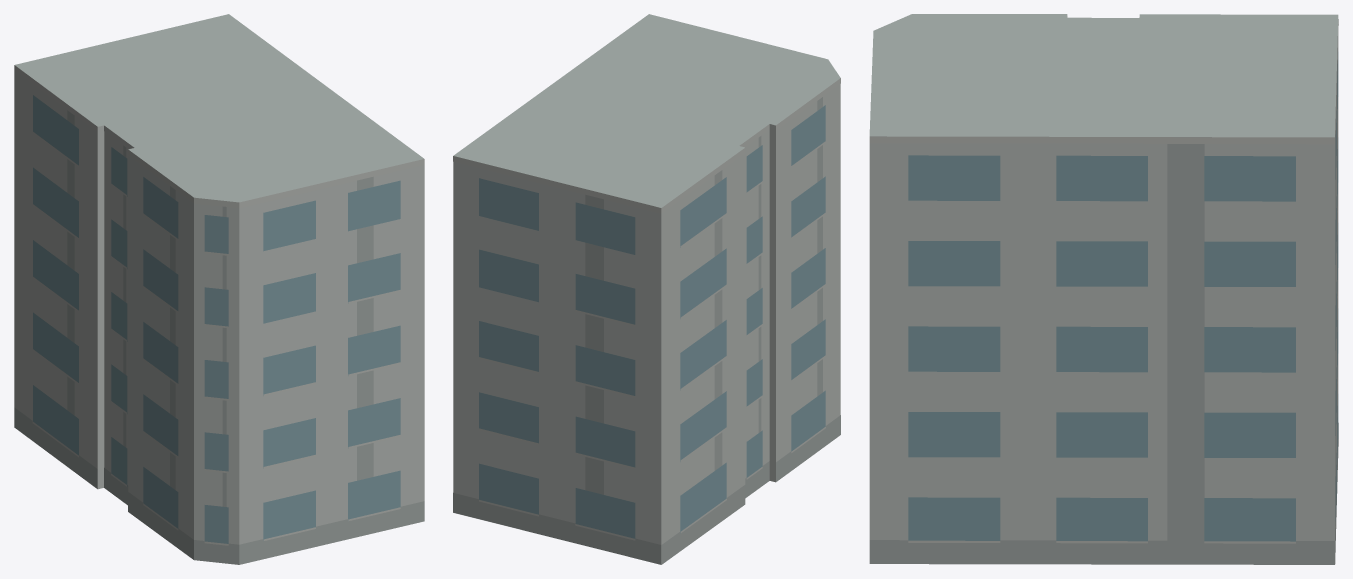
Rendered from survey-upis-32999956.glb.
The picture shows the model from 3 angles, left to right: view 1: azimuth 30°, elevation 25°; view 2: azimuth 150°, elevation 25°; view 3: azimuth 270°, elevation 25°; orthographic projection. The views are drawn at different scales.
Visible parts, largest first — view 1: survey-upis-32999956.tmp; view 2: survey-upis-32999956.tmp; view 3: survey-upis-32999956.tmp.
Boxes of the visible parts, bbox=[...] form: survey-upis-32999956.tmp: bbox=[14, 14, 424, 564]; survey-upis-32999956.tmp: bbox=[453, 14, 840, 564]; survey-upis-32999956.tmp: bbox=[869, 14, 1338, 564].
Size of the model in its own units: 9.46 by 15.25 by 15.17.
